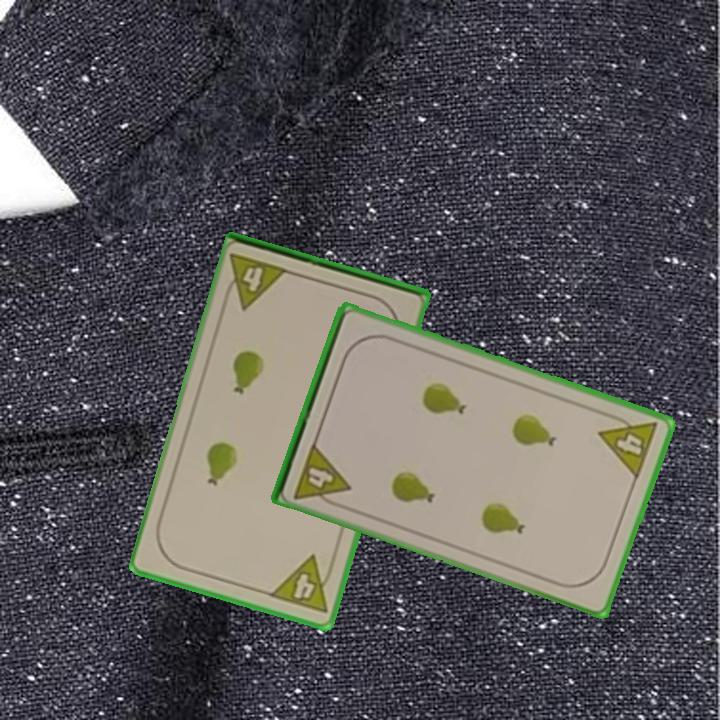4p: (595, 408, 661, 482), (266, 551, 339, 616), (219, 249, 292, 313), (290, 438, 354, 511)
